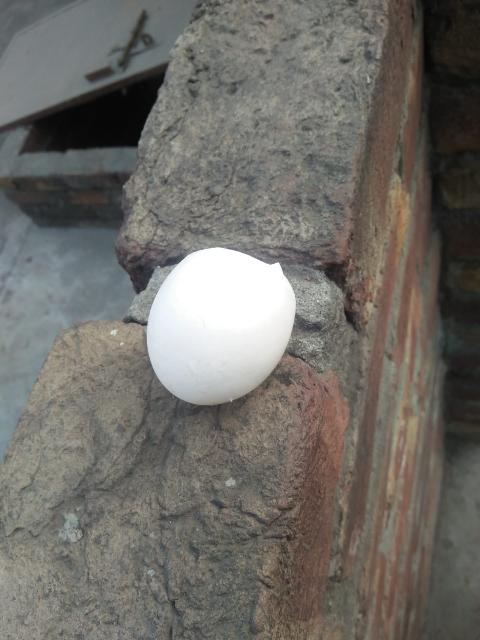Roto: (145, 246, 296, 406)
